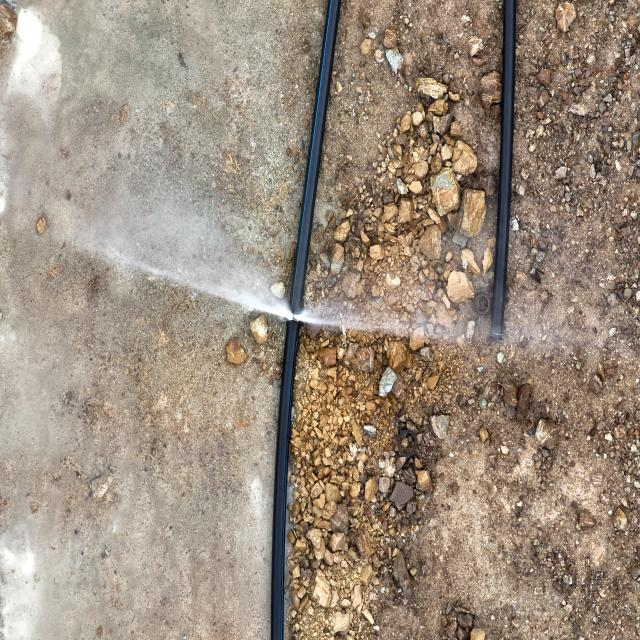leak: (40, 187, 558, 351)
